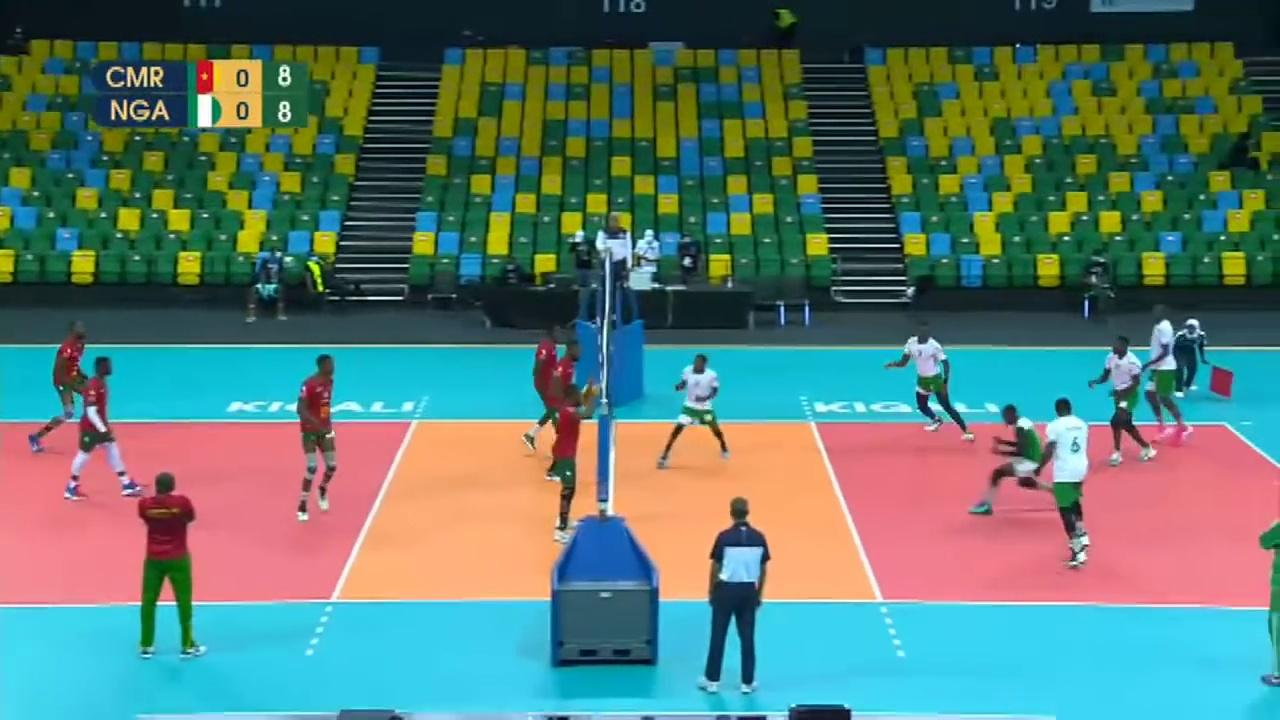player: (67, 355, 148, 498), (882, 330, 975, 437), (965, 403, 1048, 515), (1041, 401, 1095, 564), (1090, 338, 1155, 465), (28, 323, 89, 453), (658, 356, 729, 467), (1136, 315, 1191, 457), (293, 357, 341, 516), (549, 384, 591, 545), (517, 316, 561, 449), (546, 340, 584, 489)
refree: (699, 494, 776, 698), (1168, 312, 1231, 410), (595, 214, 636, 316)
